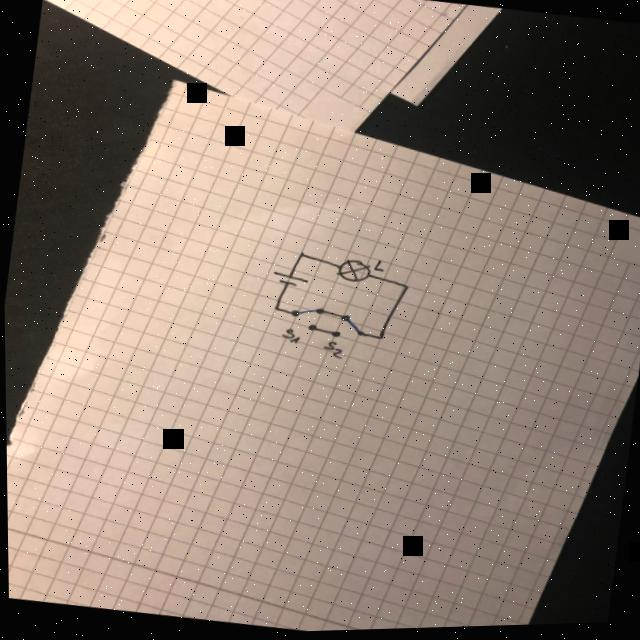junction: (373, 335, 384, 342), (399, 285, 409, 292), (270, 305, 280, 312), (297, 252, 305, 259)
source: (268, 269, 308, 291)
switch: (287, 304, 324, 333), (328, 314, 365, 343)
text: (318, 340, 342, 361), (278, 328, 300, 346), (371, 259, 385, 273)
